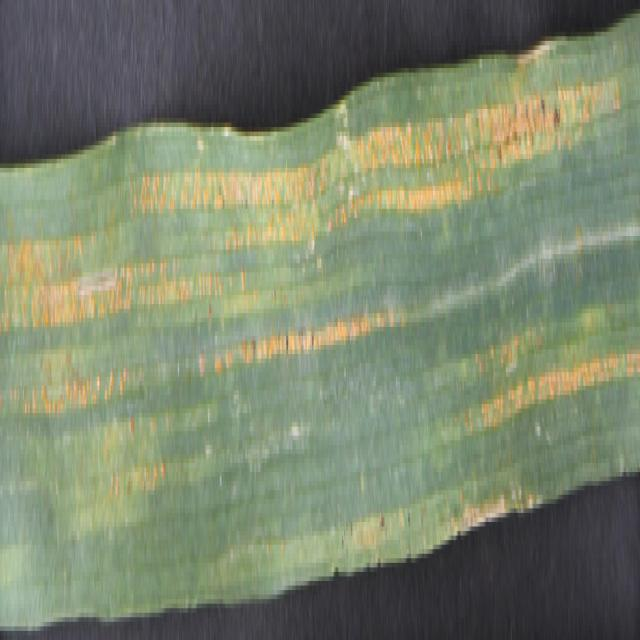leaf rust: (2, 50, 637, 490)
